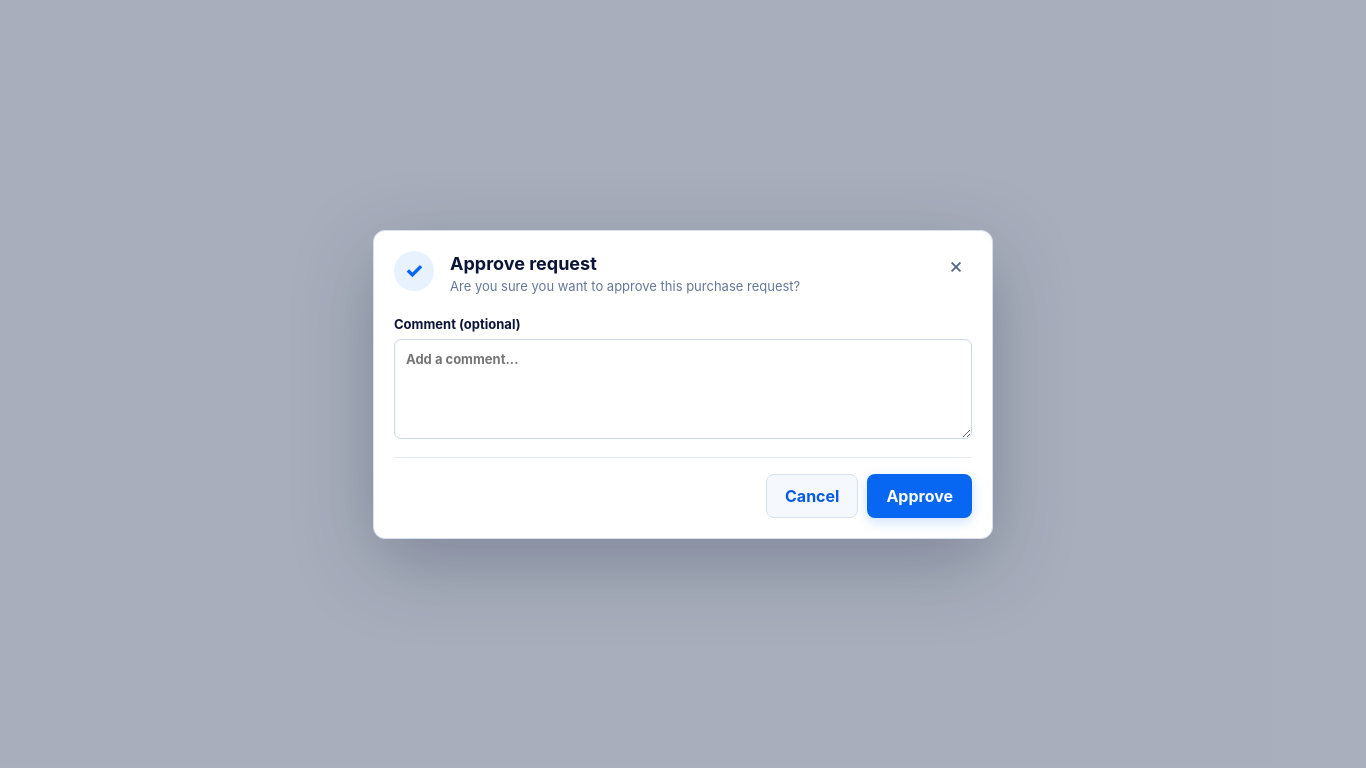
ApprovalDialog › disables dialog actions while an approval is pending
Click the button "Approve". click: point(920, 496)
box: x1=867 y1=474 x2=972 y2=518
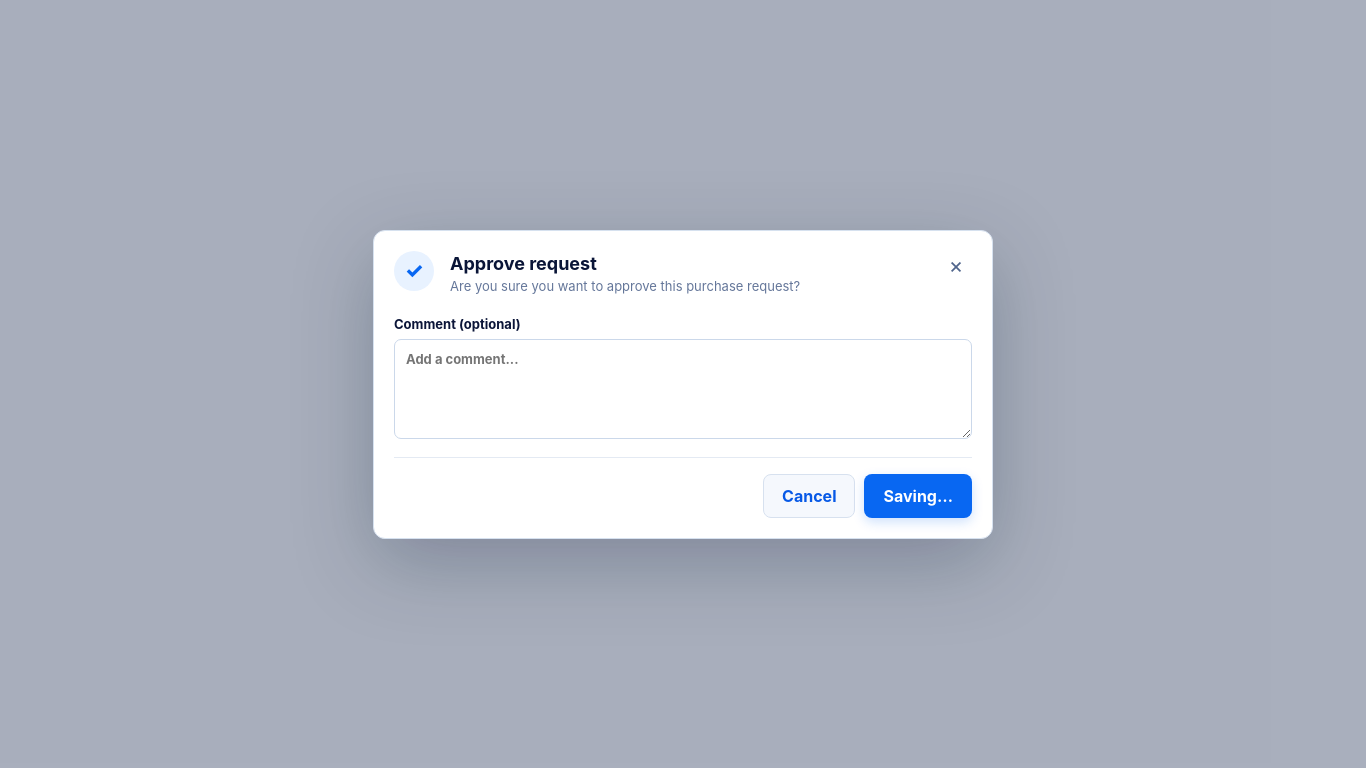
Expected: the button "Saving…" is disabled, x1=864 y1=474 x2=972 y2=518
Expected: the button "Cancel" is disabled, x1=763 y1=474 x2=856 y2=518
